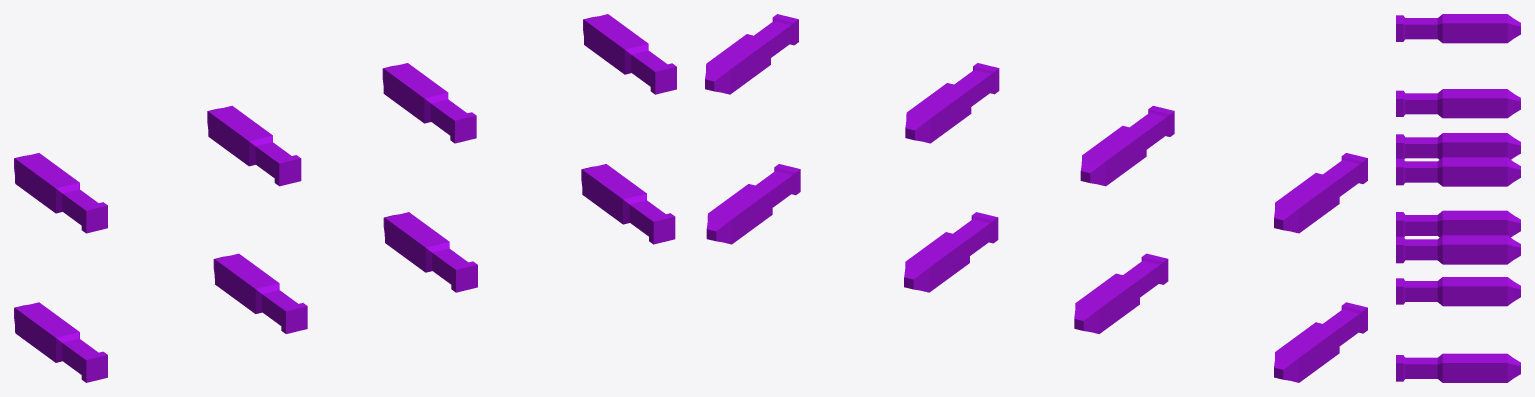
Rendered from poisonDart.fbx.
3 views of the same model, side by side, from view 1: azimuth 30°, elevation 25°; view 2: azimuth 150°, elevation 25°; view 3: azimuth 270°, elevation 25° (orthographic). The views are drawn at different scales.
Visible parts, largest first — view 1: Cube.007; view 2: Cube.007; view 3: Cube.007.
Part boxes in pixels (x1,y1,x2,y2): Cube.007: (14, 14, 676, 382); Cube.007: (705, 14, 1367, 382); Cube.007: (1396, 14, 1520, 382).
Bounding box in the file's own units: 89.54 × 25.19 × 20.51.
